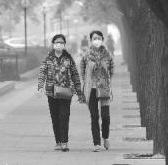person: (37, 32, 85, 154), (79, 28, 118, 154)
